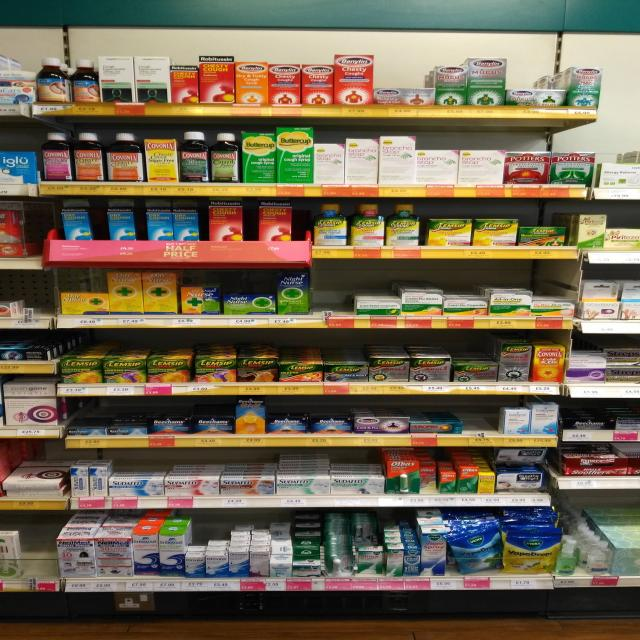void: (20, 512, 55, 581), (314, 260, 355, 314)
